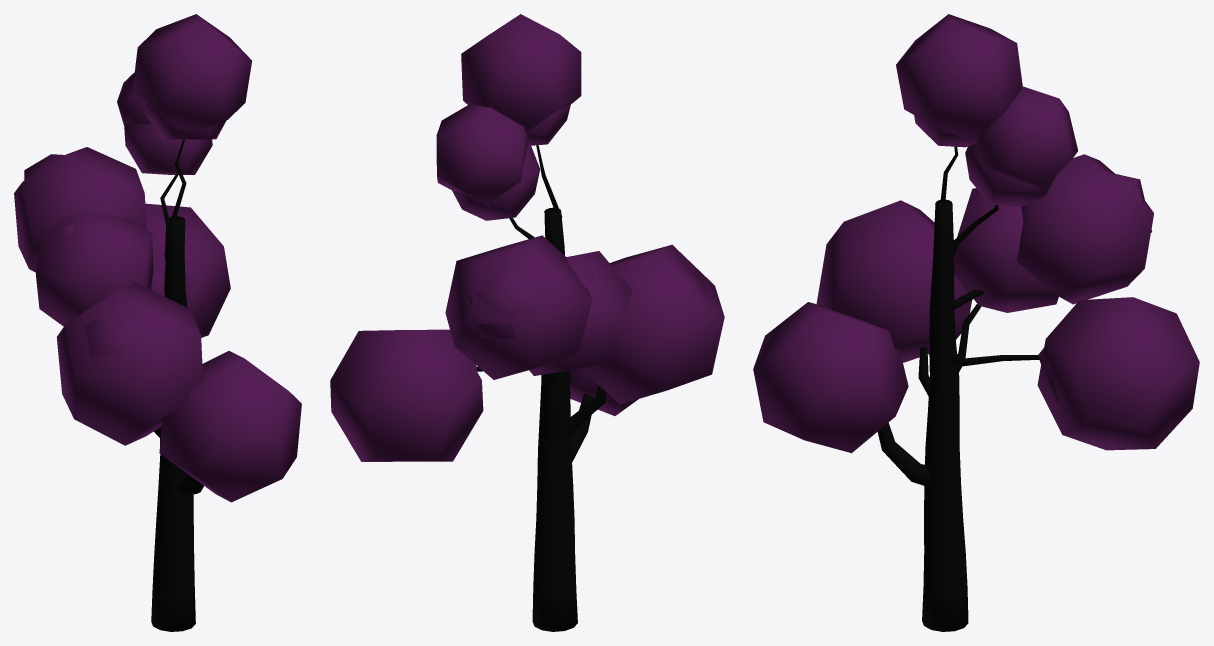
File: AnaliseTree.fbx
3 views of the same model, side by side, from view 1: azimuth 30°, elevation 25°; view 2: azimuth 150°, elevation 25°; view 3: azimuth 270°, elevation 25° (orthographic). The views are drawn at different scales.
Parts seen in each view (by area): view 1: merge1; view 2: merge1; view 3: merge1.
Part boxes in pixels (bbox=[...]): merge1: bbox=[14, 14, 301, 631]; merge1: bbox=[330, 14, 724, 631]; merge1: bbox=[753, 14, 1199, 631].
Bounding box in the file's own units: 6.06 × 13.34 × 8.75.
